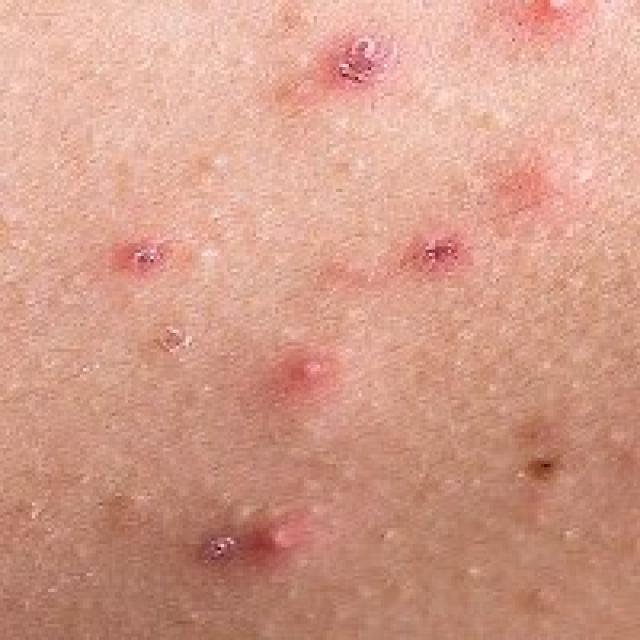acne: (166, 490, 326, 586), (480, 412, 602, 516), (394, 211, 506, 307), (262, 320, 365, 413), (326, 19, 413, 96), (493, 0, 608, 58), (109, 221, 182, 301)
